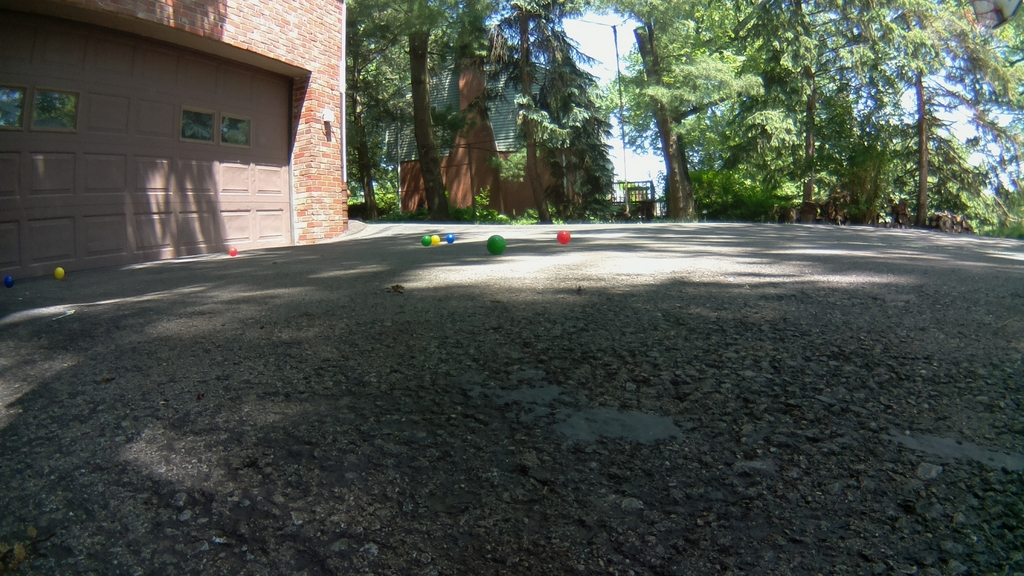ball: (487, 233, 505, 255)
